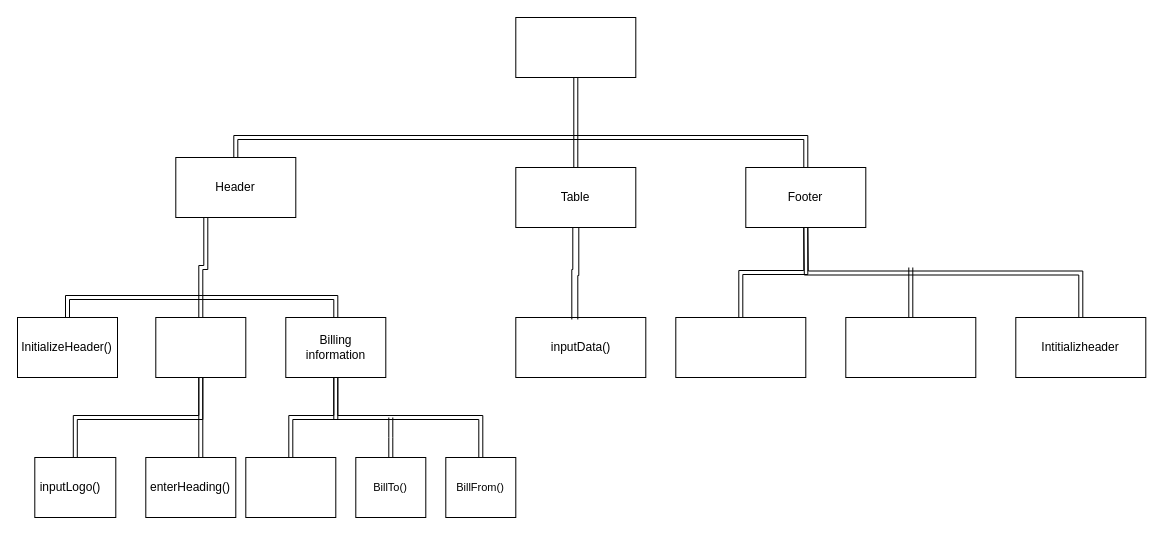
The diagram is 1164 pixels wide and 535 high, and some of its shapes have lost their labels. Each missing label, with the centre of its shape:
calculateBalance(): pixel 740 347
Heading: pixel 200 347
inputInvoiceDetails(): pixel 290 487
Invoice: pixel 575 47
writeTermConditions(): pixel 910 347
